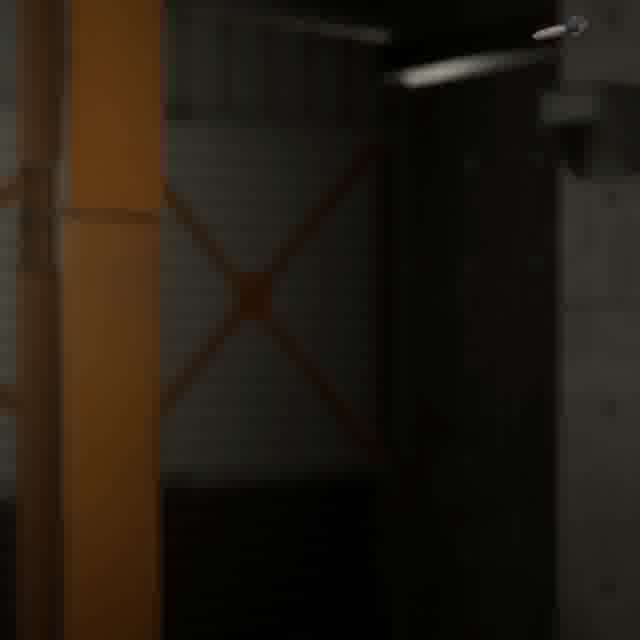bolt: (527, 11, 592, 44)
